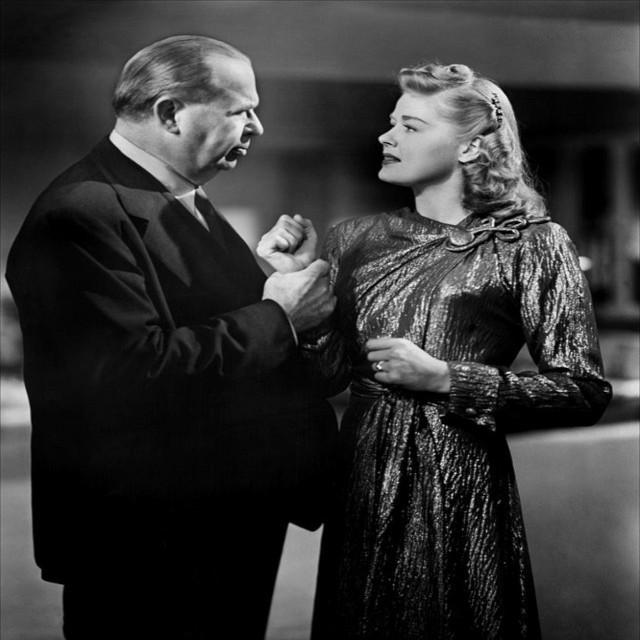kobieta: (307, 62, 587, 640)
mezczyzna: (19, 34, 263, 640)
